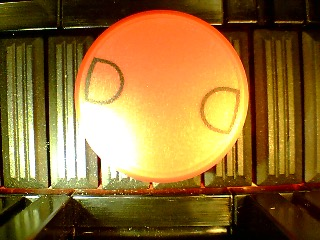MIPO2: (73, 9, 250, 182)
